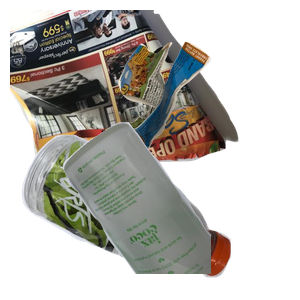glass: (60, 120, 300, 300)
paper: (10, 10, 241, 188)
plastic: (19, 132, 242, 300)
trash: (114, 39, 300, 188)
